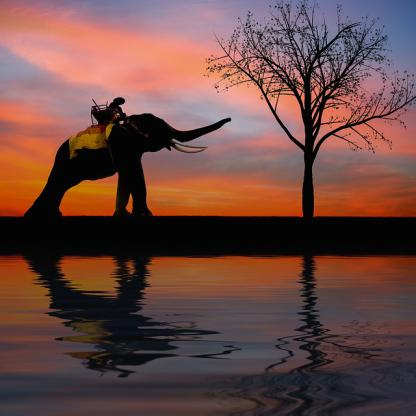elephant: (37, 108, 236, 225)
